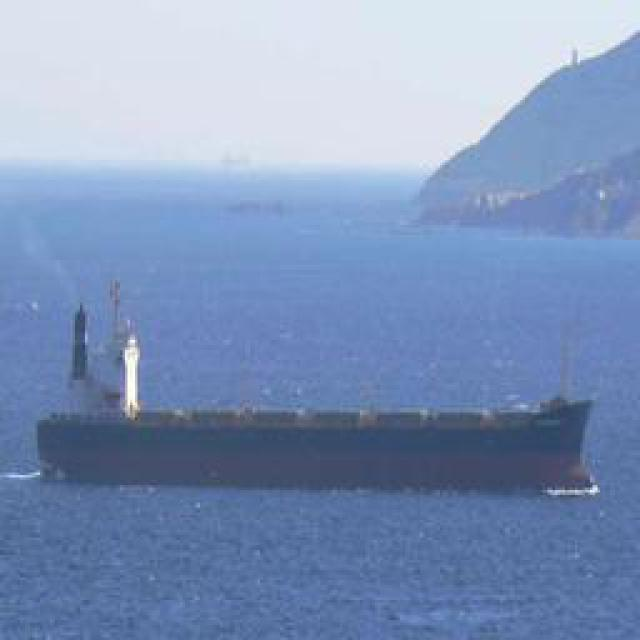Ship: (32, 400, 592, 490)
